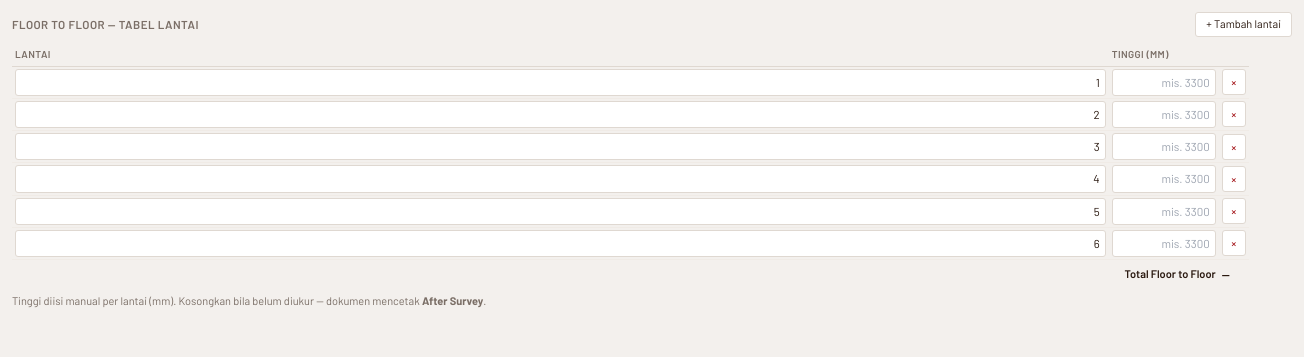
Test: Tabel Lantai — editor Floor to Floor › tambah lantai menambah baris ke-7
Click the button "+ Tambah lantai" at (1244, 24), box [1195,12,1292,36]
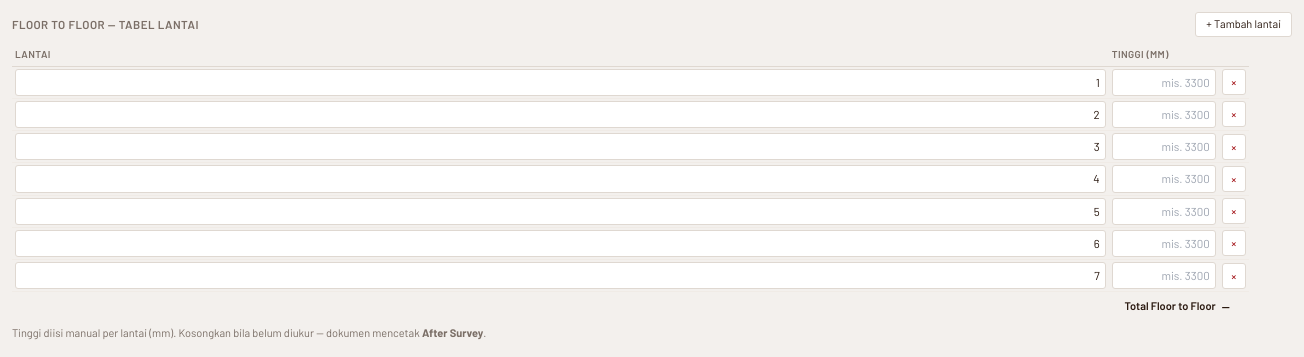
Expected: the field named "Tinggi lantai 7 (mm)" is shown, [1112,262,1216,289]
